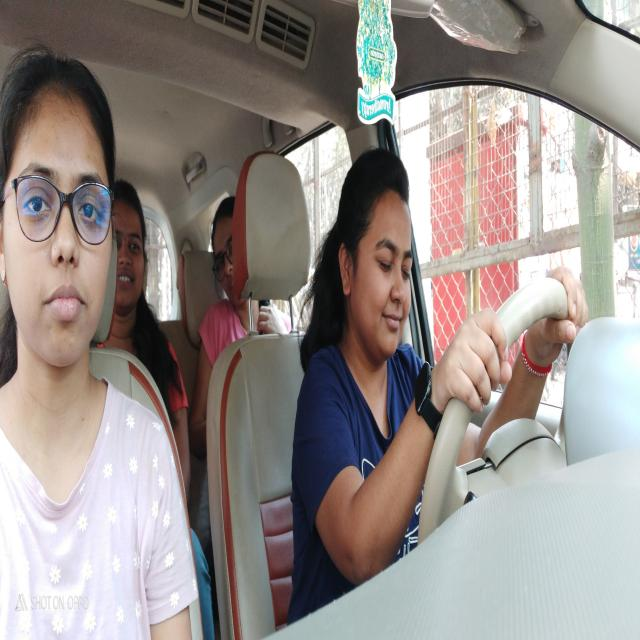drowsy: (338, 132, 422, 386)
person: (0, 38, 123, 380), (204, 184, 253, 335), (112, 156, 151, 341)
